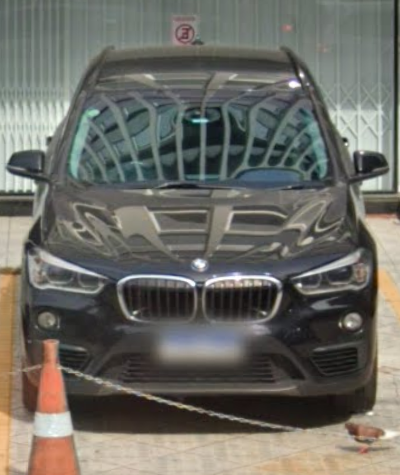car: (8, 45, 387, 420)
